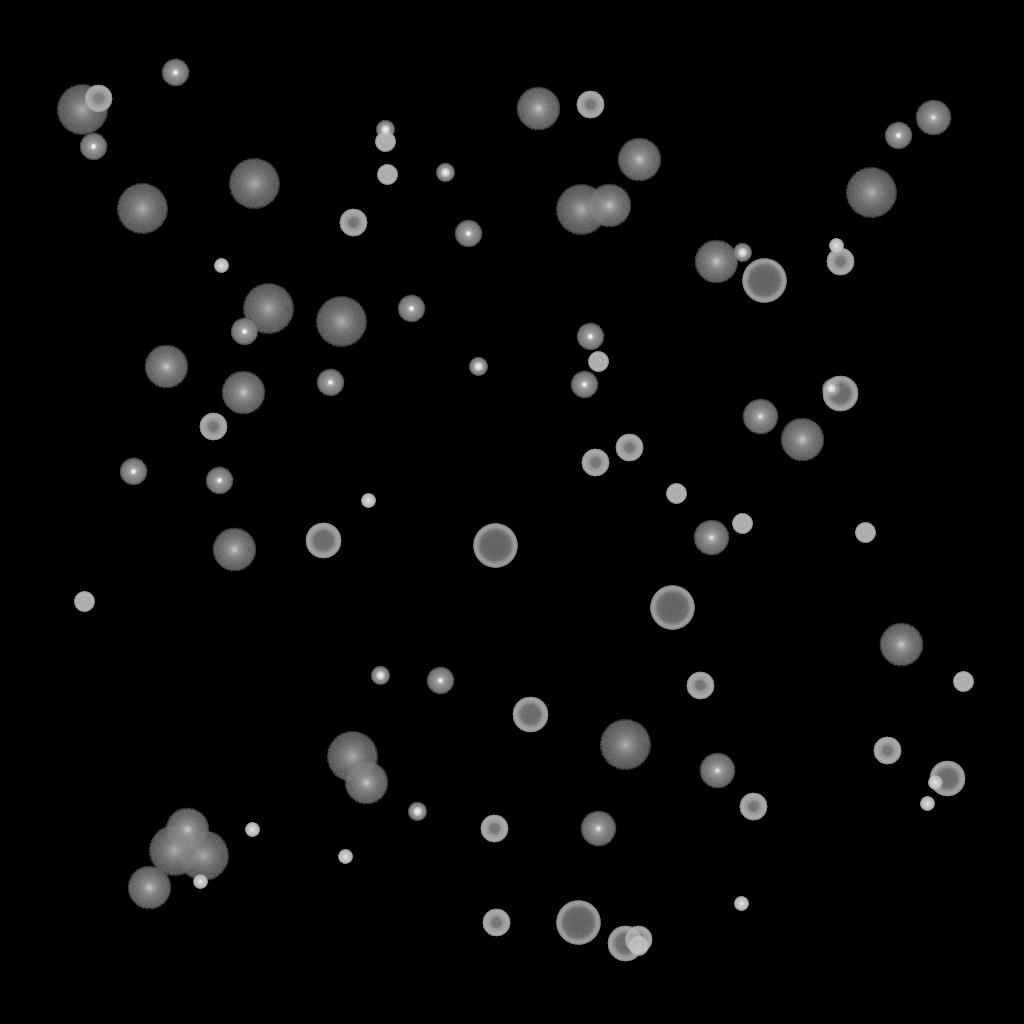depth:-10: (316, 369, 344, 397), (570, 371, 598, 399), (426, 667, 454, 695), (230, 318, 258, 346), (205, 467, 233, 495), (161, 59, 189, 87), (884, 122, 912, 150), (119, 458, 147, 486), (576, 323, 604, 351), (79, 133, 107, 161), (397, 295, 425, 323), (454, 220, 482, 248)
depth:-20: (469, 358, 487, 376), (436, 164, 454, 182), (733, 244, 751, 262), (408, 803, 426, 821), (376, 121, 394, 139), (371, 667, 389, 685), (822, 380, 840, 398)
depth:-30: (361, 494, 375, 508), (193, 875, 207, 889), (734, 897, 748, 911), (245, 823, 259, 837), (829, 239, 843, 253), (920, 797, 934, 811), (214, 259, 228, 273), (928, 776, 942, 790), (338, 850, 352, 864)
depth:-40: (377, 165, 397, 185), (74, 592, 94, 612), (375, 132, 395, 152), (732, 514, 752, 534), (953, 672, 973, 692), (666, 484, 686, 504), (588, 352, 608, 372), (855, 523, 875, 543), (628, 936, 648, 956)
depth:-50: (624, 926, 652, 954), (686, 672, 714, 700), (84, 85, 112, 113), (615, 434, 643, 462), (739, 793, 767, 821), (873, 737, 901, 765), (576, 91, 604, 119), (339, 209, 367, 237), (482, 909, 510, 937), (581, 449, 609, 477), (199, 413, 227, 441), (480, 815, 508, 843), (826, 248, 854, 276)
depth:-60: (929, 761, 965, 797), (305, 523, 341, 559), (822, 376, 858, 412), (512, 697, 548, 733), (607, 926, 643, 962)
depth:-70: (473, 524, 517, 568), (650, 586, 694, 630), (556, 901, 600, 945), (742, 259, 786, 303)
depth:0: (699, 753, 735, 789), (580, 811, 616, 847), (742, 399, 778, 435), (693, 520, 729, 556), (915, 100, 951, 136)
depth:10: (221, 371, 265, 415), (587, 184, 631, 228), (516, 87, 560, 131), (617, 138, 661, 182), (127, 866, 171, 910), (344, 761, 388, 805), (879, 623, 923, 667), (212, 528, 256, 572), (694, 240, 738, 284), (780, 418, 824, 462), (165, 808, 209, 852), (144, 345, 188, 389)
depth:20: (177, 831, 229, 881), (555, 185, 607, 235), (56, 85, 108, 135), (315, 297, 367, 347), (148, 826, 200, 876), (242, 284, 294, 334), (228, 159, 280, 209), (599, 720, 651, 770), (326, 732, 378, 782), (116, 184, 168, 234), (845, 168, 897, 218)
